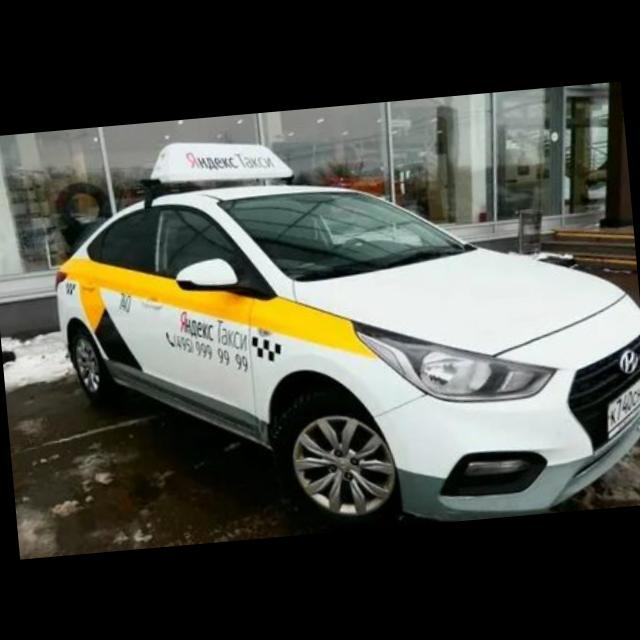taxi: (42, 103, 640, 556)
